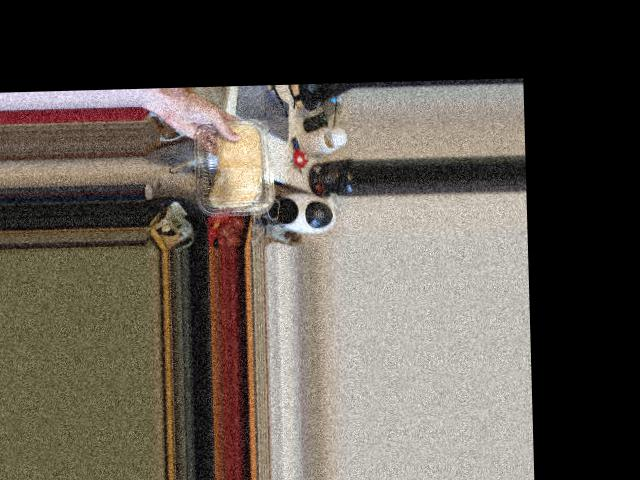cheese: (189, 121, 282, 209)
